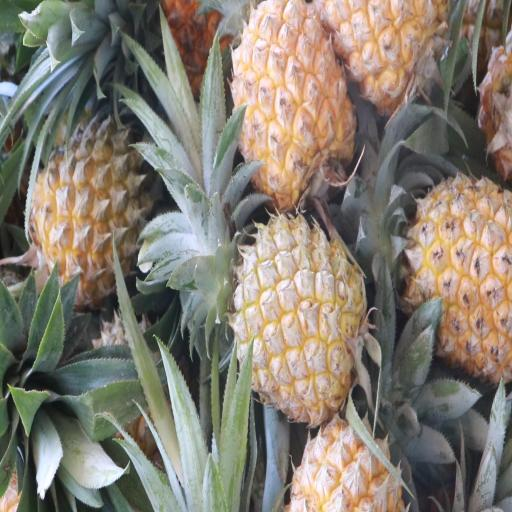------------------------------: (30, 128, 155, 306)
Pineapple - v8 v1: (235, 207, 366, 421), (230, 1, 357, 204), (406, 169, 512, 379), (294, 404, 421, 512)
